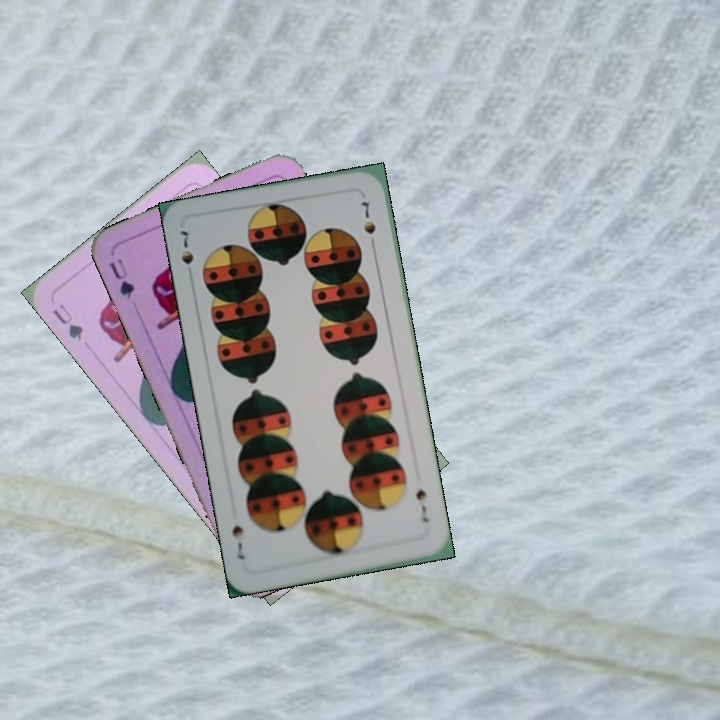GU: (48, 300, 86, 343), (105, 254, 138, 301)
S7: (175, 226, 196, 283), (411, 480, 431, 525)
